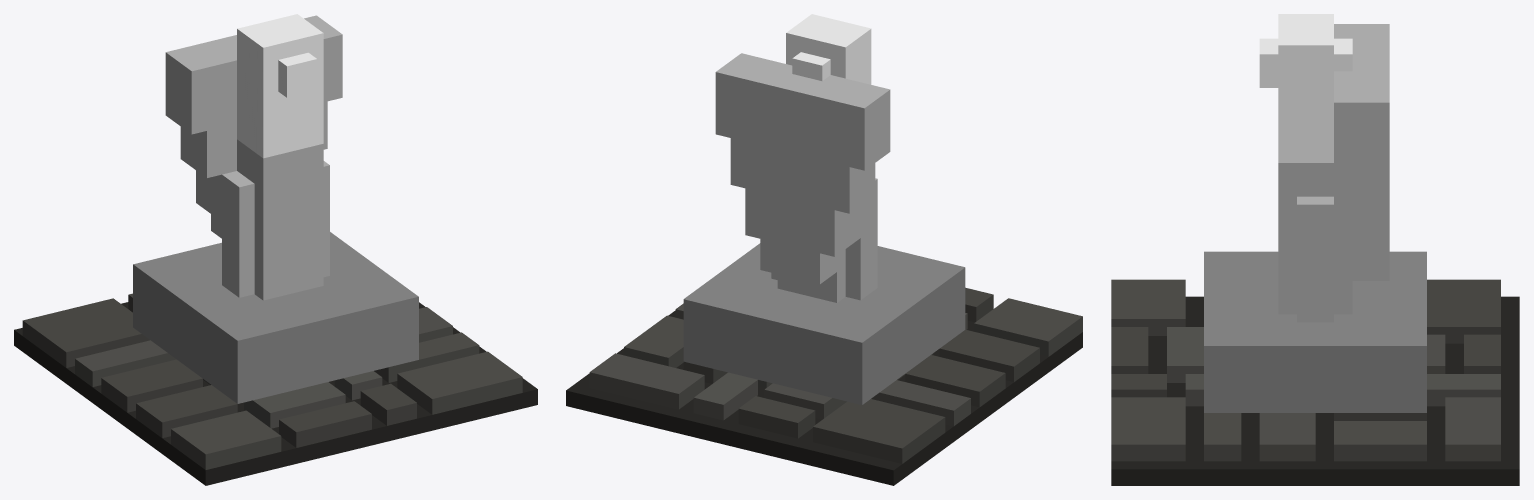
File: tile_sewers_STATUE.glb
The picture shows the model from 3 angles, left to right: view 1: azimuth 30°, elevation 25°; view 2: azimuth 150°, elevation 25°; view 3: azimuth 270°, elevation 25°; orthographic projection. The views are drawn at different scales.
Parts seen in each view (by area): view 1: tile_sewers_STATUE_v3; view 2: tile_sewers_STATUE_v3; view 3: tile_sewers_STATUE_v3.
Boxes of the visible parts, x1,y1,x2,y2 form: tile_sewers_STATUE_v3: (14,14,537,485); tile_sewers_STATUE_v3: (566,14,1082,485); tile_sewers_STATUE_v3: (1111,14,1519,485).
Size of the model in its own units: 1 by 1 by 1.
Materials: 1 (1 with a texture image).
